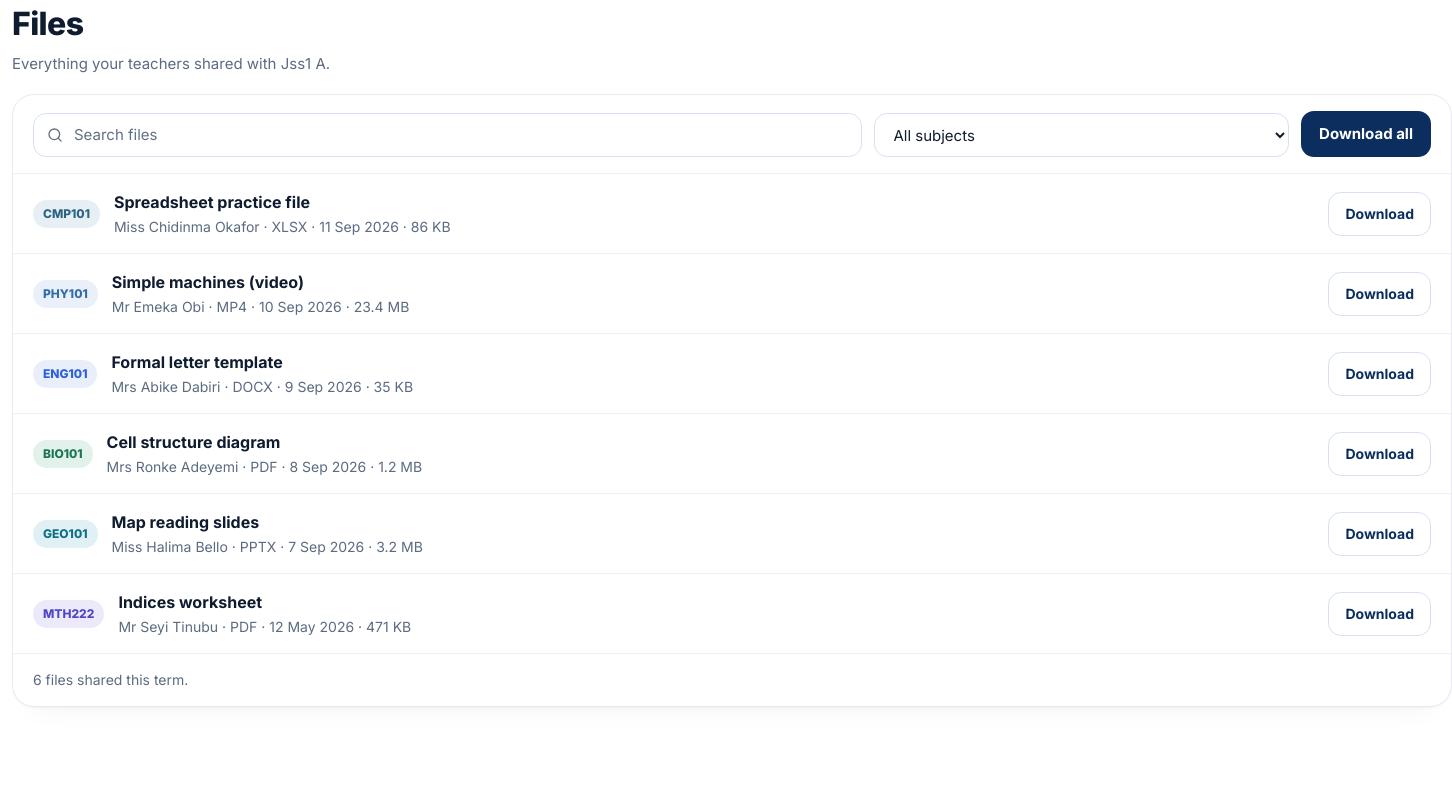
Test case: Files screen › waits for typing to pause before searching, then keeps the search in the address
The image size is (1452, 810).
Check: the list named "Files" is shown, box [13,174,1451,654]
Type "indices" into the search field labelled "Search files" at (448, 135), box [33,113,862,157]
Wait 300 ms
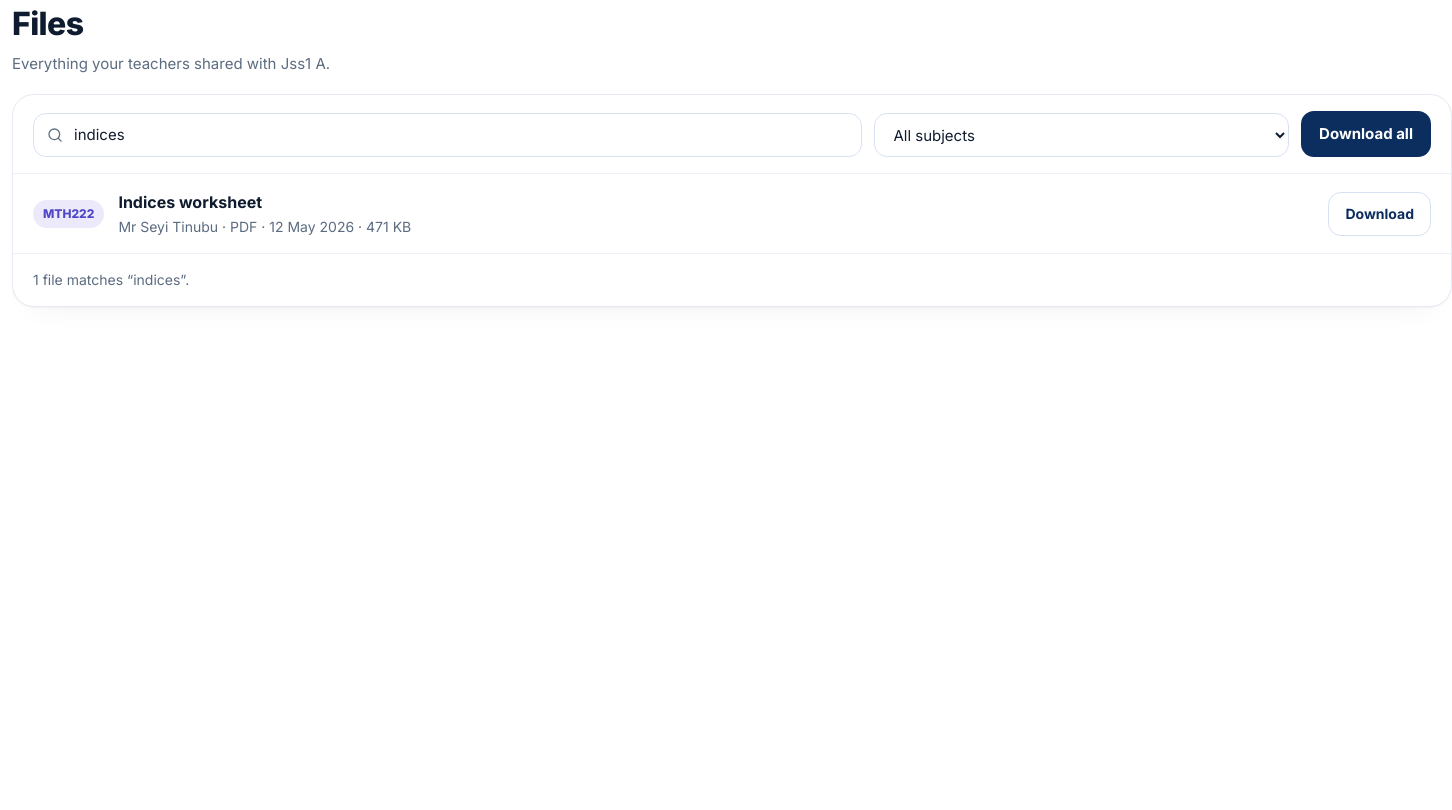
Check: the list item shows "Indices worksheet", box [118,192,262,212]
Check: the number of list items is 1, box [13,174,1451,254]
Check: the message reads "1 file matches “indices”.", box [33,271,189,288]
